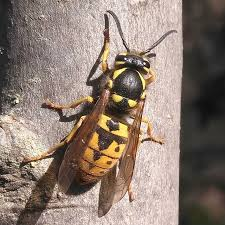chax: (12, 4, 180, 215)
